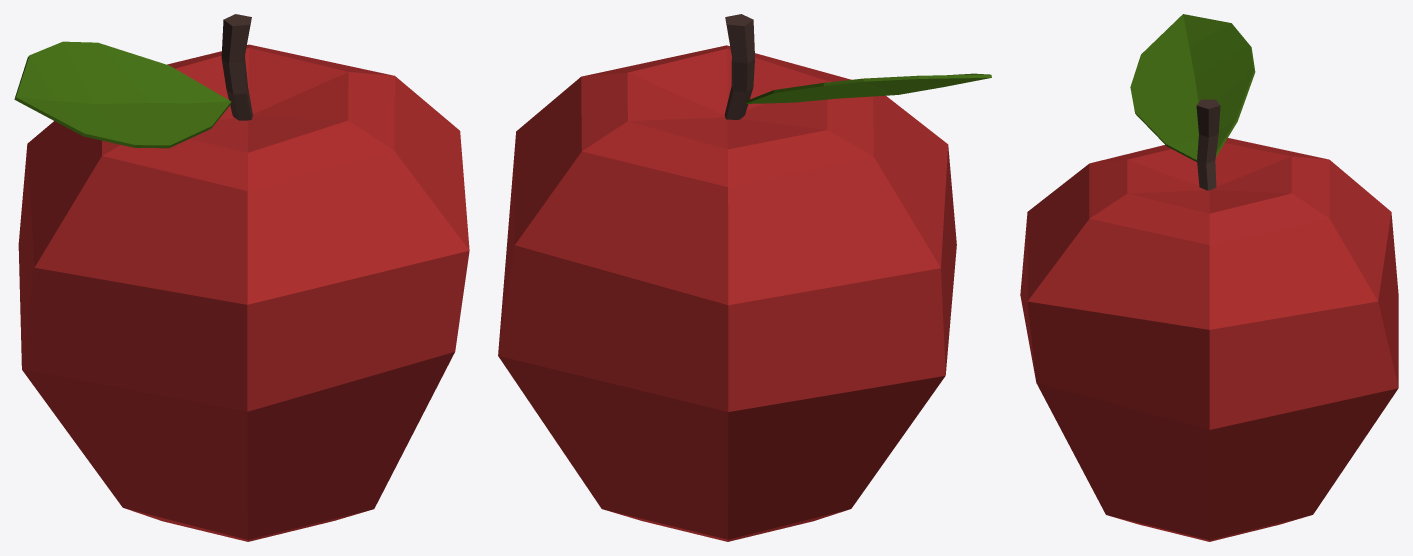
The model's file is Apple.fbx.
The picture shows the model from 3 angles, left to right: view 1: azimuth 30°, elevation 25°; view 2: azimuth 150°, elevation 25°; view 3: azimuth 270°, elevation 25°; orthographic projection. The views are drawn at different scales.
Parts seen in each view (by area): view 1: Apple; view 2: Apple; view 3: Apple.
Boxes of the visible parts, left/top/right/bottom form: Apple: left=14, top=14, right=469, bottom=541; Apple: left=498, top=14, right=991, bottom=541; Apple: left=1020, top=14, right=1398, bottom=541.
Size of the model in its own units: 0.2308 by 0.2284 by 0.1952.
